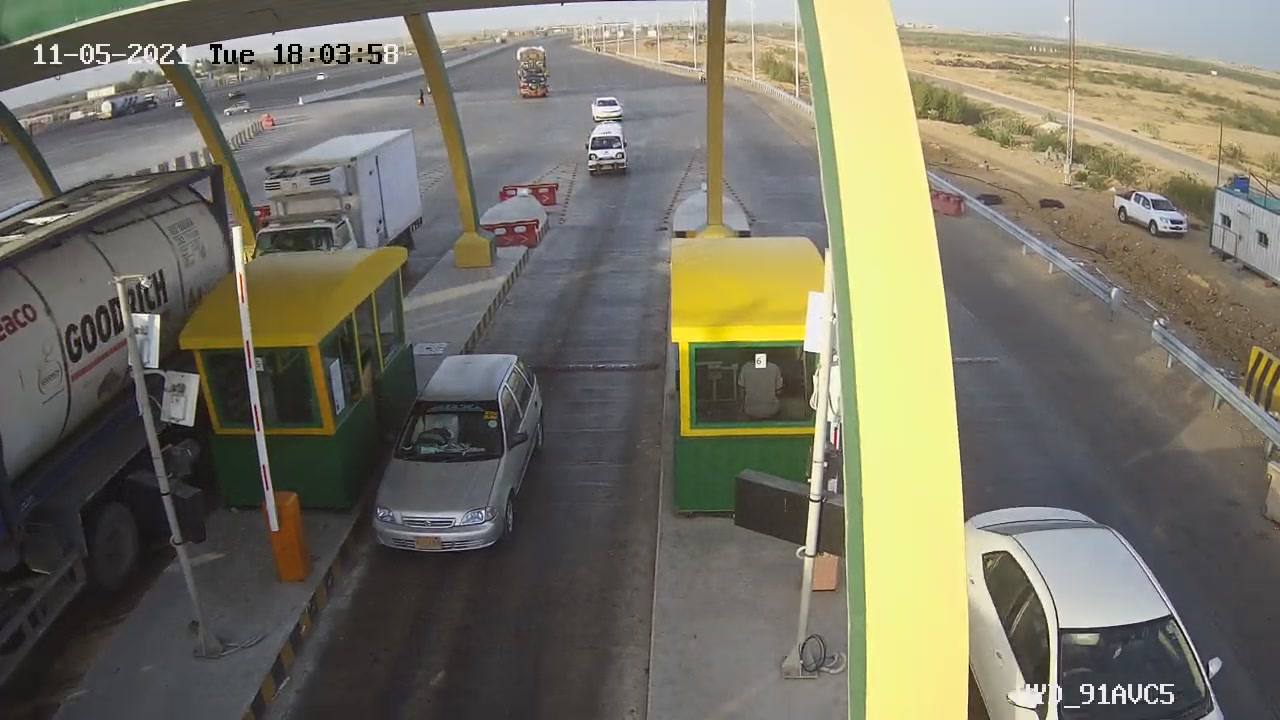F1: (350, 340, 568, 572)
